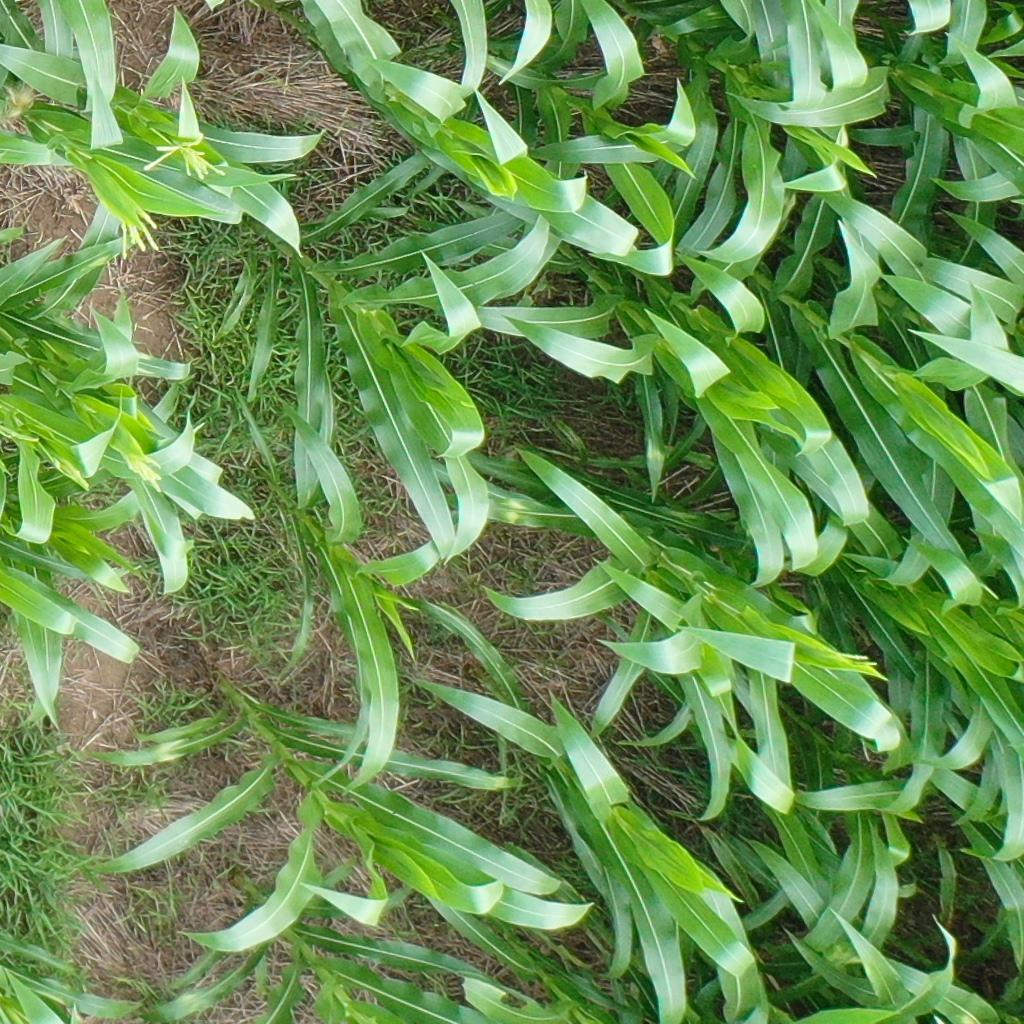Tassel: (144, 133, 230, 181), (116, 204, 162, 255), (126, 449, 165, 495)
